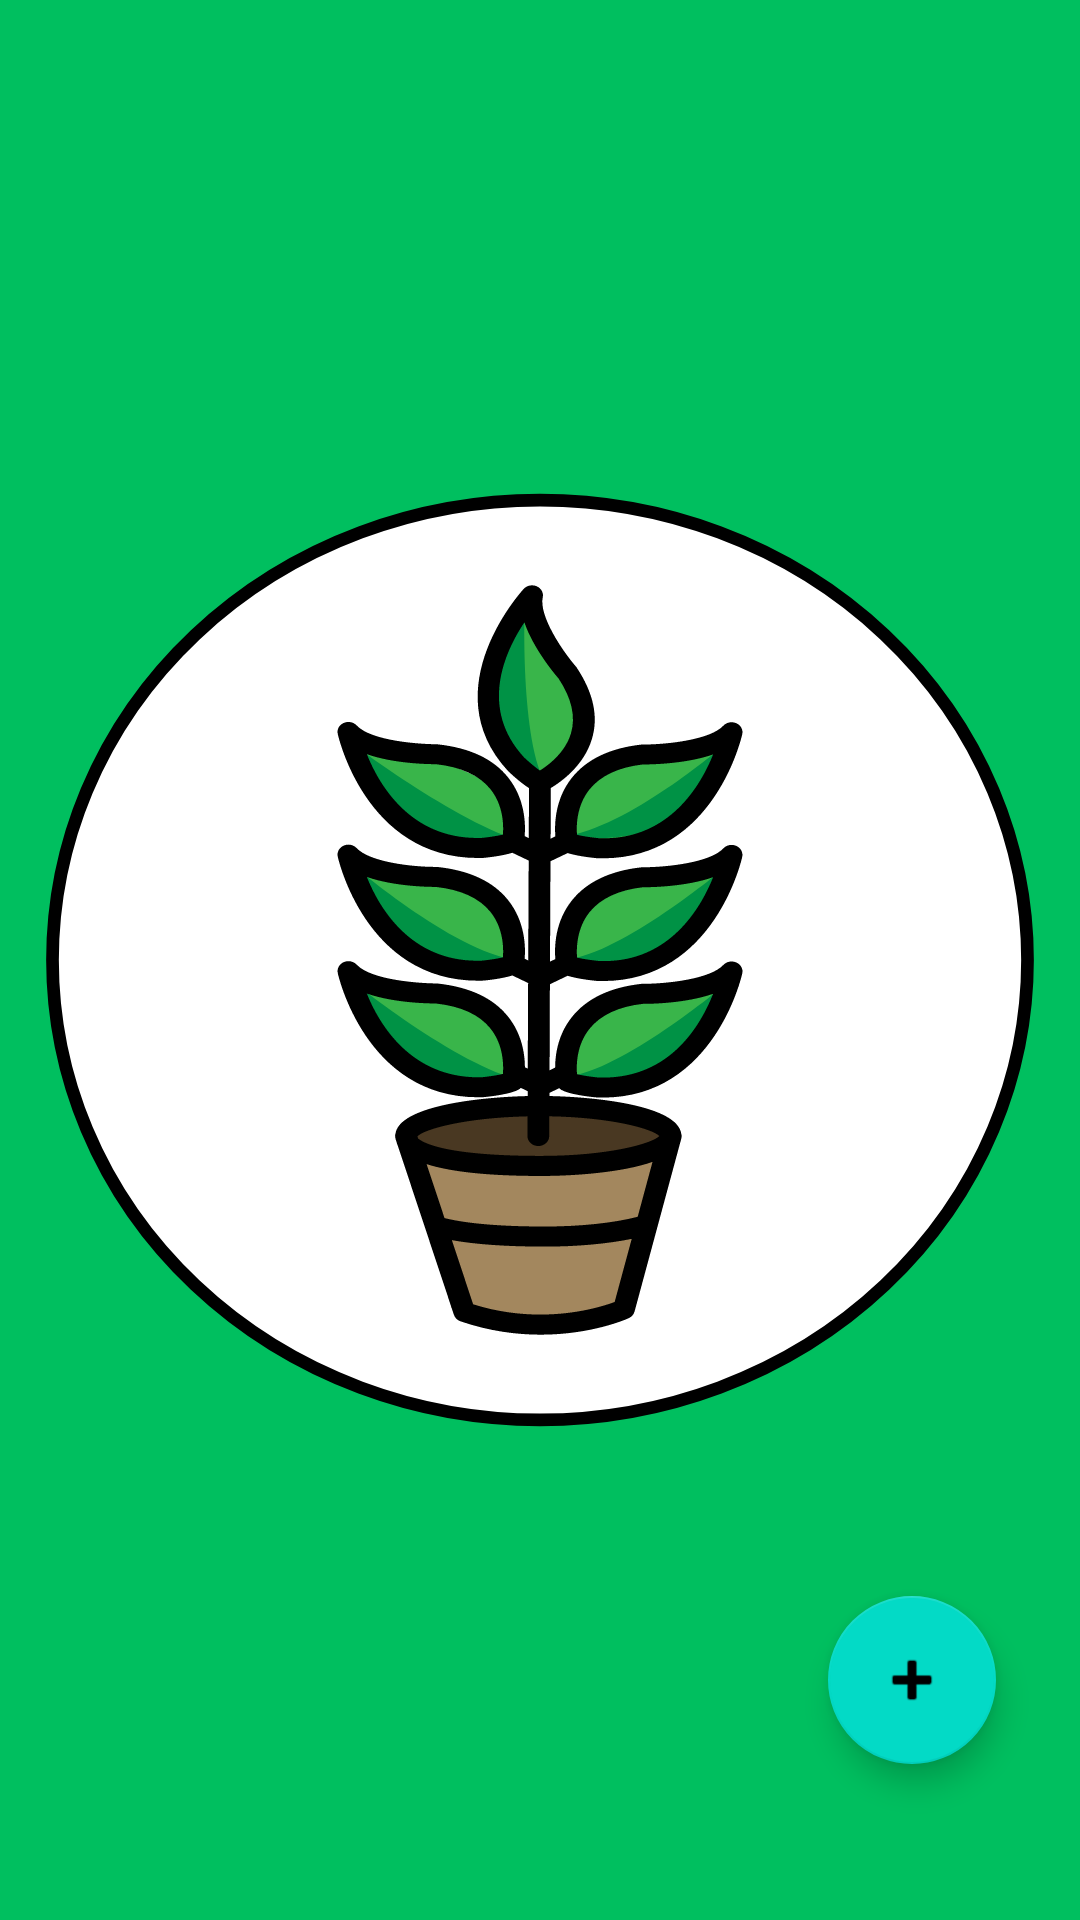

Screen size 1080x1920. Icon name, then its center in pixels as [x,y]:
add: [912,1680]
